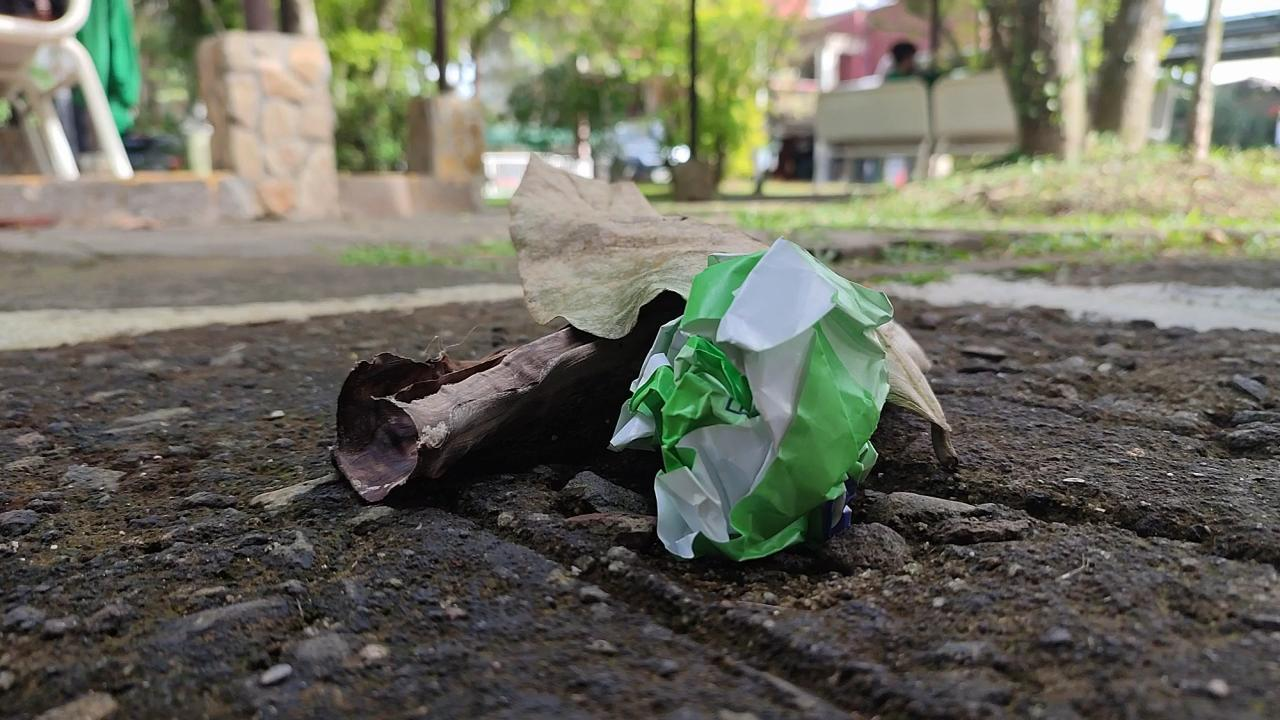Paper: (598, 212, 914, 580)
